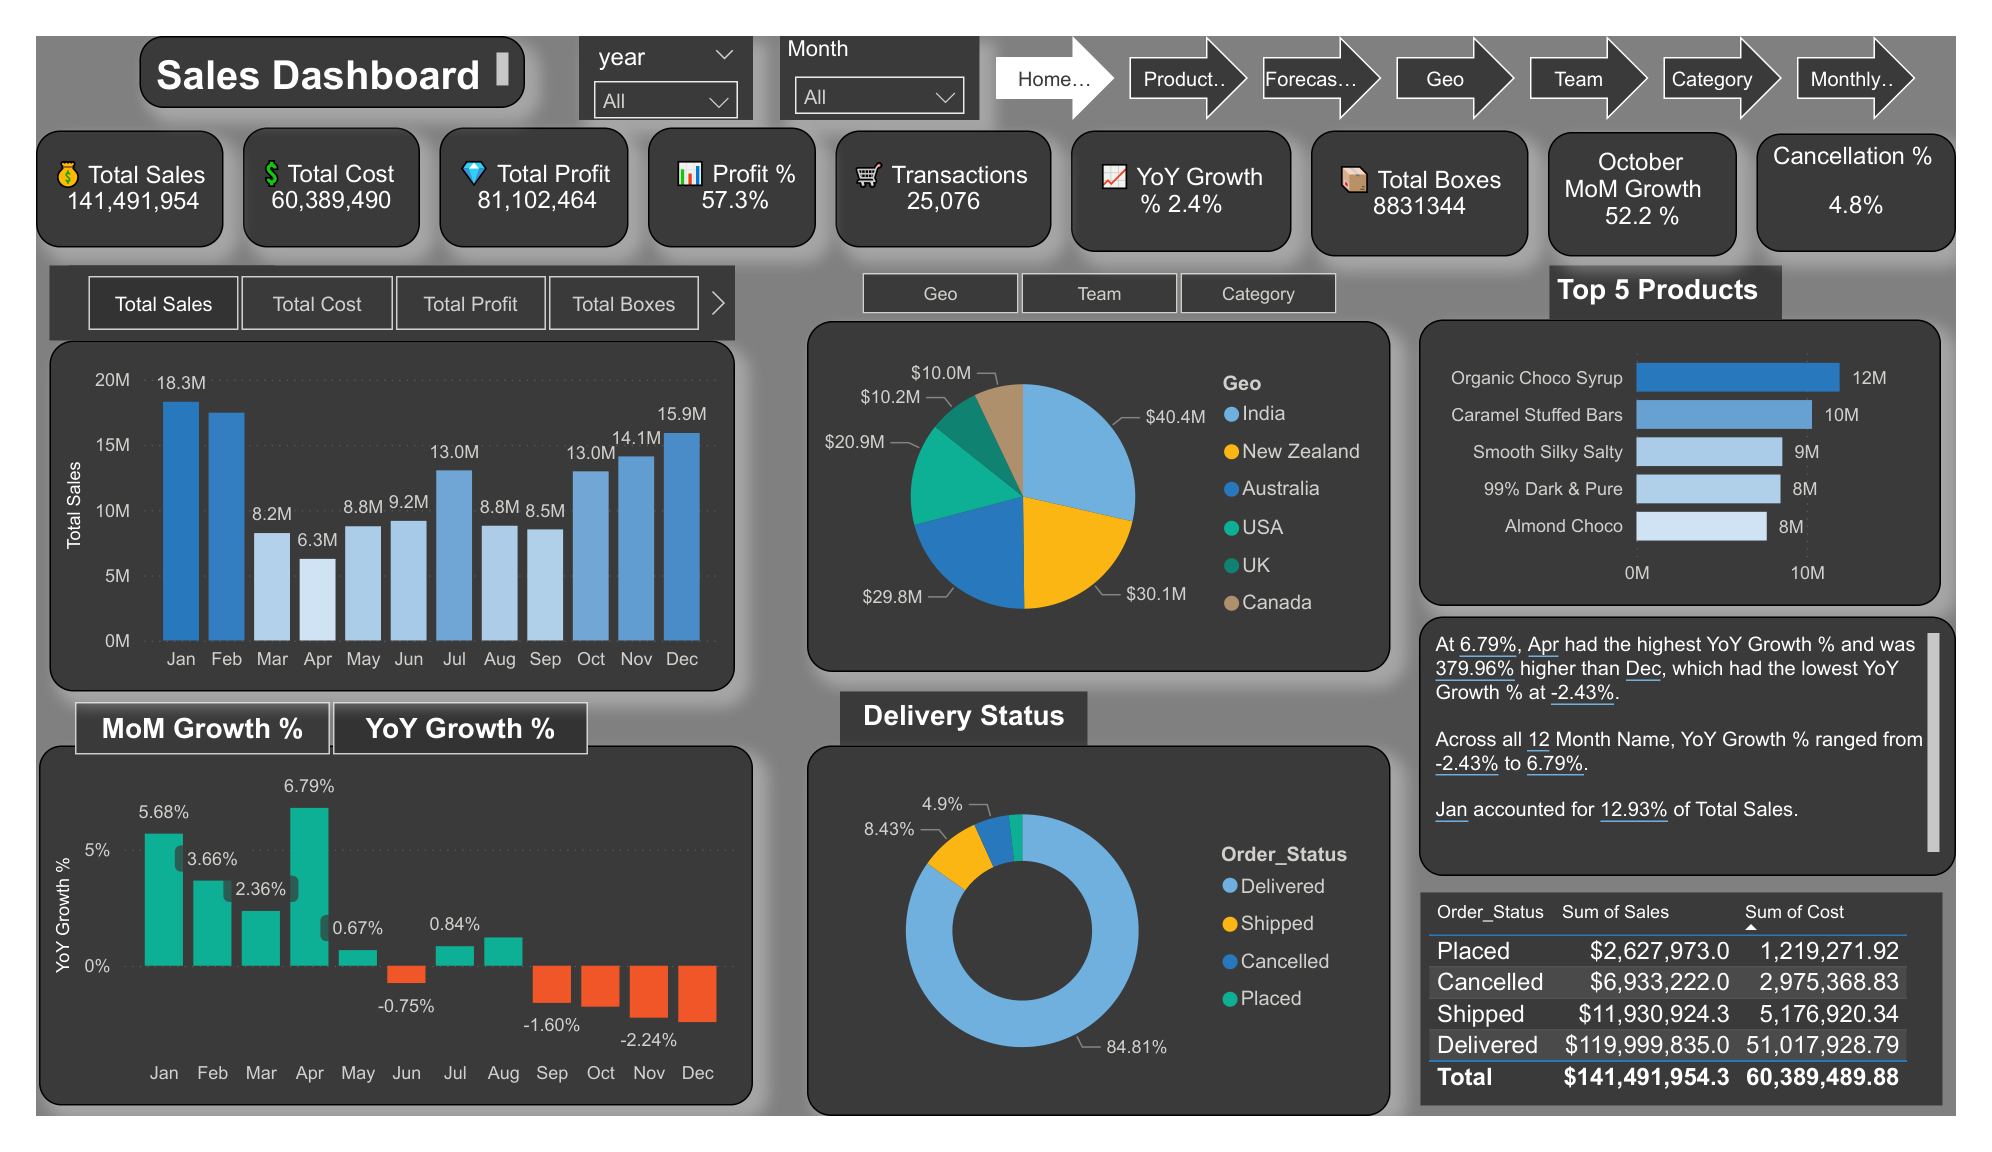

The dashboard page shown, as its layout file describes it:
{"tool":"powerbi","page":{"name":"Home page","canvas":[1280,720],"ordinal":0},"visuals":[{"type":"slicer","fields":{"Values":["calendar.year"]},"box":[361.9,0,116.2,55.7],"z":0},{"type":"pieChart","fields":{"Category":["locations.Geo"],"Y":["Sum(shipments.Sales)"]},"box":[513.8,189.9,389.5,234.6],"z":1000},{"type":"slicer","fields":{"Values":["Sales  Dependence.Sales  Dependence "]},"box":[525.4,151.3,365.6,41.2],"z":2000},{"type":"tableEx","fields":{"Values":["shipments.Order_Status","Sum(shipments.Sales)","Sum(shipments.Cost)"]},"box":[922.7,570.7,348,142.7],"z":3000},{"type":"clusteredBarChart","fields":{"Y":["Measurments.Total Sales"],"Category":["products.Product"]},"box":[922.3,189.4,347.9,190.4],"z":4000},{"type":"card","fields":{"Values":["Measurments.Total Cost"]},"box":[138.3,61.3,117.3,80],"z":5000},{"type":"slicer","title":"Month","fields":{"Values":["calendar.Month Name 3"]},"box":[496.3,0,133.2,55.7],"z":6000},{"type":"card","fields":{"Values":["Measurments.Total Sales"]},"box":[0,62.7,125.3,78.7],"z":7000},{"type":"card","fields":{"Values":["Measurments.Total Profit Card"]},"box":[268.7,61.3,126.7,80],"z":8000},{"type":"card","fields":{"Values":["Measurments.YoY Growth %  Card"]},"box":[690.3,62.7,146.7,81.3],"z":9000},{"type":"card","fields":{"Values":["Measurments.Transactions Card"]},"box":[533.3,62.7,144,78.7],"z":10000},{"type":"card","fields":{"Values":["Measurments.Total Boxes Card"]},"box":[850,62.7,145.3,84],"z":11000},{"type":"card","fields":{"Values":["Measurments.Profit% Card"]},"box":[408.3,61.3,112,80],"z":12000},{"type":"textbox","box":[69,0,256.6,48.4],"z":13000},{"type":"pageNavigator","box":[640.4,0,612.5,55.7],"z":14000},{"type":"textbox","box":[1008.5,153.2,155.3,36.2],"z":15000},{"type":"lineClusteredColumnComboChart","fields":{"Y":["Measurments.MoM Growth %"],"Category":["calendar.Month Name"]},"box":[2.4,473.3,475.7,239.7],"z":16000},{"type":"textbox","box":[1008.3,64,125.3,82.7],"z":17000},{"type":"textbox","box":[21.8,152.5,136.8,37.5],"z":18000},{"type":"textbox","box":[536.3,437,164.6,36.3],"z":19000},{"type":"donutChart","fields":{"Category":["shipments.Order_Status"],"Y":["Sum(shipments.Sales)"]},"box":[513.8,473.3,389.5,247.1],"z":20000},{"type":"slicer","fields":{"Values":["Growth %.Growth %"]},"box":[0,437,392,42],"z":21000},{"type":"clusteredColumnChart","fields":{"Y":["Measurments.Total Sales"],"Category":["calendar.Month Name"]},"box":[9,203,457,234],"z":22000},{"type":"slicer","fields":{"Values":["Parameter.Parameter"]},"box":[9,153,457,50],"z":23000},{"type":"card","title":"Cancellation %","fields":{"Values":["Measurments.Cancellation %"]},"box":[1146.7,65.3,133.3,78.7],"z":24000},{"type":"textbox","box":[922.3,387.2,357.4,172.3],"z":25000}]}

Visuals, with their boxes in screenshot pixels (x1, y1, x2, y2), scaled from the page's 1280x720 canvas onto the 1992x1152 screenshot:
slicer - calendar.year: <region>563, 0, 744, 89</region>
pieChart - locations.Geo x Sum(shipments.Sales): <region>800, 304, 1406, 679</region>
slicer - Sales  Dependence.Sales  Dependence : <region>818, 242, 1387, 308</region>
tableEx - shipments.Order_Status x Sum(shipments.Sales): <region>1436, 913, 1978, 1141</region>
clusteredBarChart - Measurments.Total Sales x products.Product: <region>1435, 303, 1977, 608</region>
card - Measurments.Total Cost: <region>215, 98, 398, 226</region>
"Month" slicer: <region>772, 0, 980, 89</region>
card - Measurments.Total Sales: <region>0, 100, 195, 226</region>
card - Measurments.Total Profit Card: <region>418, 98, 615, 226</region>
card - Measurments.YoY Growth %  Card: <region>1074, 100, 1303, 230</region>
card - Measurments.Transactions Card: <region>830, 100, 1054, 226</region>
card - Measurments.Total Boxes Card: <region>1323, 100, 1549, 235</region>
card - Measurments.Profit% Card: <region>635, 98, 810, 226</region>
textbox: <region>107, 0, 507, 77</region>
pageNavigator: <region>997, 0, 1950, 89</region>
textbox: <region>1569, 245, 1811, 303</region>
lineClusteredColumnComboChart - Measurments.MoM Growth % x calendar.Month Name: <region>4, 757, 744, 1141</region>
textbox: <region>1569, 102, 1764, 235</region>
textbox: <region>34, 244, 247, 304</region>
textbox: <region>835, 699, 1091, 757</region>
donutChart - shipments.Order_Status x Sum(shipments.Sales): <region>800, 757, 1406, 1151</region>
slicer - Growth %.Growth %: <region>0, 699, 610, 766</region>
clusteredColumnChart - Measurments.Total Sales x calendar.Month Name: <region>14, 325, 725, 699</region>
slicer - Parameter.Parameter: <region>14, 245, 725, 325</region>
"Cancellation %" card: <region>1785, 104, 1991, 230</region>
textbox: <region>1435, 620, 1991, 895</region>
